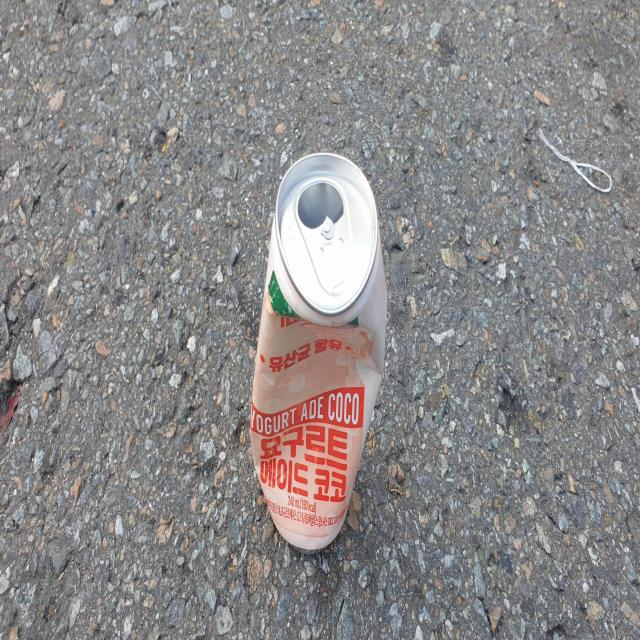can: (250, 152, 387, 550)
